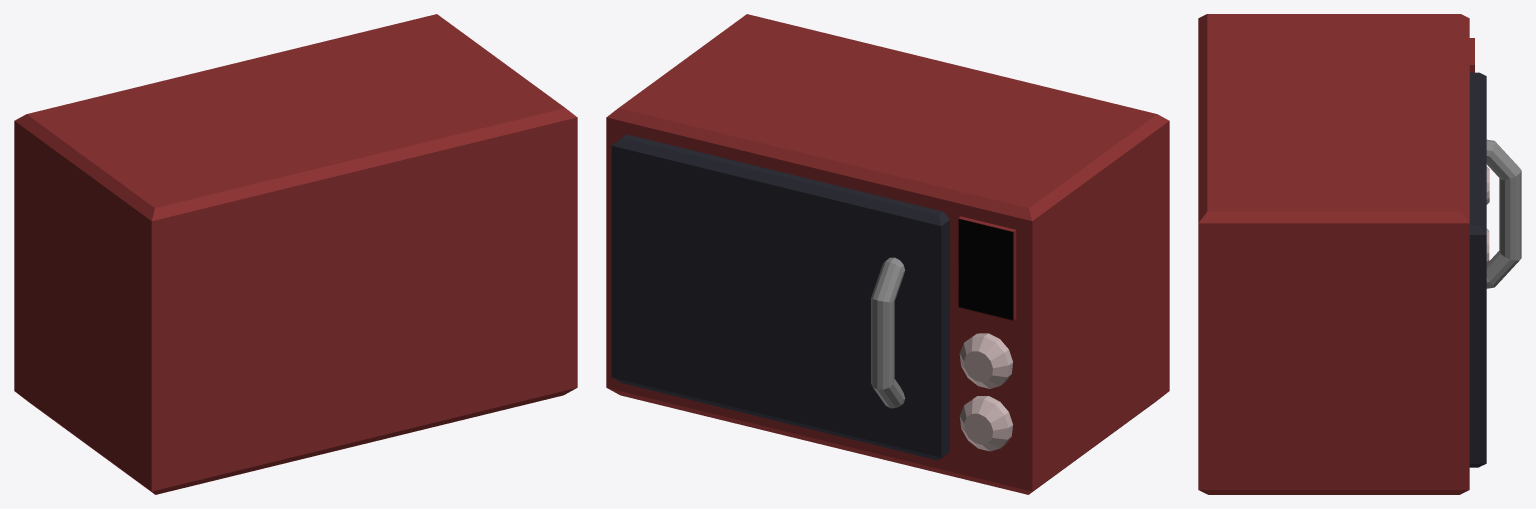
Rendered from Microonde.fbx.
The picture shows the model from 3 angles, left to right: view 1: azimuth 30°, elevation 25°; view 2: azimuth 150°, elevation 25°; view 3: azimuth 270°, elevation 25°; orthographic projection.
Parts seen in each view (by area): view 1: Microonde; view 2: Microonde; view 3: Microonde.
Part boxes in pixels (box(x1,y1,x2,y2)): Microonde: box(14, 14, 577, 494); Microonde: box(606, 14, 1169, 494); Microonde: box(1198, 14, 1521, 494).
Bounding box in the file's own units: 85.88 × 55.42 × 57.17.
